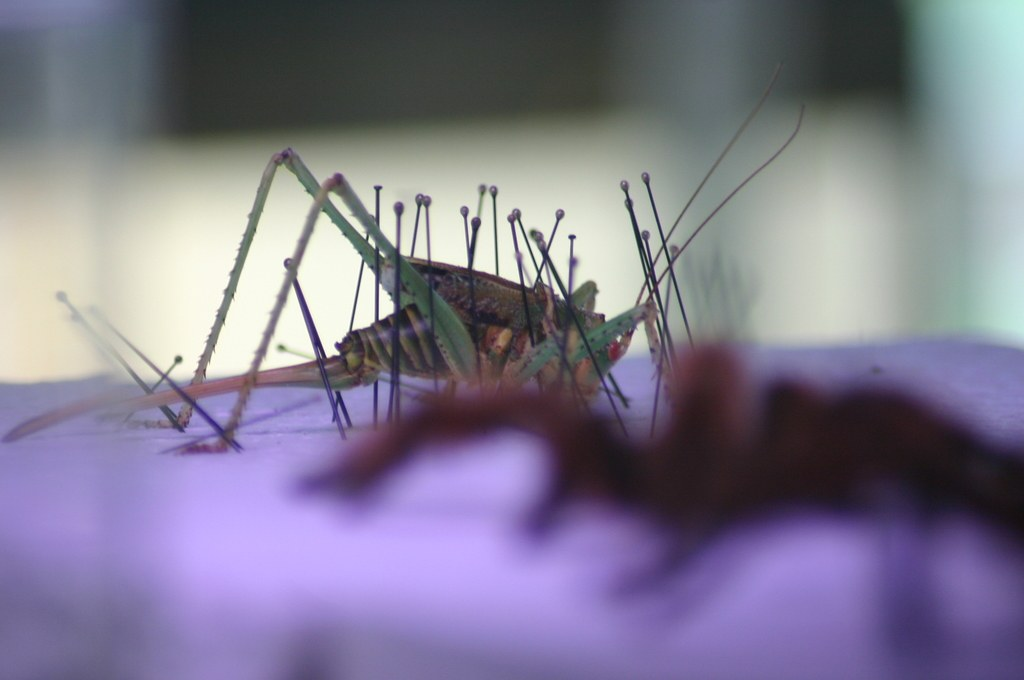insect: (54, 64, 806, 446)
